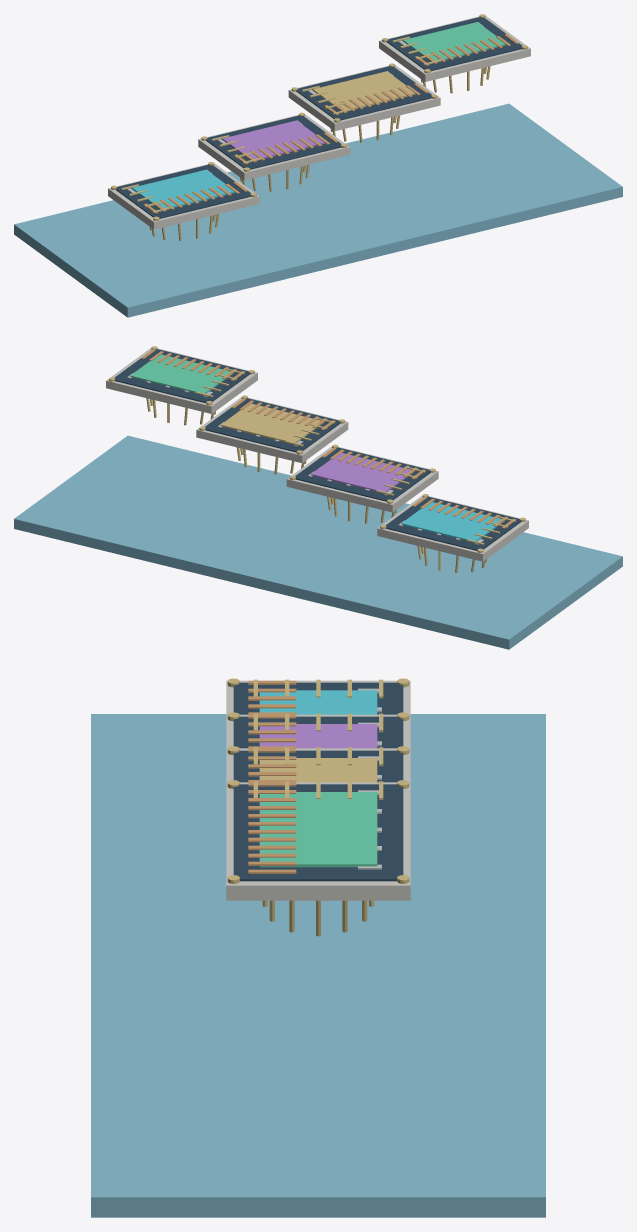
Rendered from 65_L79_Completed3DChipStackHologram.glb.
3 views of the same model, one above another, from view 1: azimuth 30°, elevation 25°; view 2: azimuth 150°, elevation 25°; view 3: azimuth 270°, elevation 25° (orthographic). The views are drawn at different scales.
Visible parts, largest first — view 1: Completed3DChipStackHologram_Node_0686, Completed3DChipStackHologram_Node_0381, Completed3DChipStackHologram_Node_0002, Completed3DChipStackHologram_Node_0155, Completed3DChipStackHologram_Node_0534, Completed3DChipStackHologram_Node_0379, Completed3DChipStackHologram_Node_0532, Completed3DChipStackHologram_Node_0153, Completed3DChipStackHologram_Node_0000, Completed3DChipStackHologram_Node_0533, Completed3DChipStackHologram_Node_0001, Completed3DChipStackHologram_Node_0380 (+1 smaller); view 2: Completed3DChipStackHologram_Node_0686, Completed3DChipStackHologram_Node_0002, Completed3DChipStackHologram_Node_0381, Completed3DChipStackHologram_Node_0534, Completed3DChipStackHologram_Node_0155, Completed3DChipStackHologram_Node_0379, Completed3DChipStackHologram_Node_0532, Completed3DChipStackHologram_Node_0153, Completed3DChipStackHologram_Node_0000, Completed3DChipStackHologram_Node_0380, Completed3DChipStackHologram_Node_0533, Completed3DChipStackHologram_Node_0154 (+1 smaller); view 3: Completed3DChipStackHologram_Node_0686, Completed3DChipStackHologram_Node_0534, Completed3DChipStackHologram_Node_0533, Completed3DChipStackHologram_Node_0532, Completed3DChipStackHologram_Node_0002, Completed3DChipStackHologram_Node_0155, Completed3DChipStackHologram_Node_0381, Completed3DChipStackHologram_Node_0154, Completed3DChipStackHologram_Node_0001, Completed3DChipStackHologram_Node_0380, Completed3DChipStackHologram_Node_0379, Completed3DChipStackHologram_Node_0000 (+1 smaller).
Boxes of the visible parts, box(x1,y1,x2,y2) form: Completed3DChipStackHologram_Node_0686: box(14, 103, 622, 317); Completed3DChipStackHologram_Node_0381: box(313, 71, 415, 110); Completed3DChipStackHologram_Node_0002: box(132, 170, 234, 209); Completed3DChipStackHologram_Node_0155: box(222, 120, 325, 160); Completed3DChipStackHologram_Node_0534: box(403, 22, 506, 61); Completed3DChipStackHologram_Node_0379: box(288, 65, 440, 130); Completed3DChipStackHologram_Node_0532: box(379, 16, 530, 81); Completed3DChipStackHologram_Node_0153: box(198, 114, 350, 180); Completed3DChipStackHologram_Node_0000: box(108, 163, 259, 229); Completed3DChipStackHologram_Node_0533: box(386, 17, 522, 71); Completed3DChipStackHologram_Node_0001: box(115, 164, 250, 218); Completed3DChipStackHologram_Node_0380: box(296, 66, 431, 120); Completed3DChipStackHologram_Node_0686: box(14, 435, 622, 649); Completed3DChipStackHologram_Node_0002: box(401, 502, 504, 541); Completed3DChipStackHologram_Node_0381: box(220, 403, 323, 442); Completed3DChipStackHologram_Node_0534: box(130, 354, 233, 393); Completed3DChipStackHologram_Node_0155: box(311, 453, 413, 492); Completed3DChipStackHologram_Node_0379: box(196, 397, 348, 462); Completed3DChipStackHologram_Node_0532: box(106, 348, 257, 413); Completed3DChipStackHologram_Node_0153: box(286, 446, 438, 512); Completed3DChipStackHologram_Node_0000: box(377, 495, 528, 561); Completed3DChipStackHologram_Node_0380: box(205, 398, 340, 452); Completed3DChipStackHologram_Node_0533: box(114, 349, 250, 403); Completed3DChipStackHologram_Node_0154: box(295, 447, 430, 501); Completed3DChipStackHologram_Node_0686: box(91, 714, 545, 1217); Completed3DChipStackHologram_Node_0534: box(259, 792, 377, 867); Completed3DChipStackHologram_Node_0533: box(233, 784, 403, 881); Completed3DChipStackHologram_Node_0532: box(226, 782, 410, 900); Completed3DChipStackHologram_Node_0002: box(259, 690, 377, 714); Completed3DChipStackHologram_Node_0155: box(259, 724, 377, 748); Completed3DChipStackHologram_Node_0381: box(259, 758, 377, 782); Completed3DChipStackHologram_Node_0154: box(233, 716, 403, 748); Completed3DChipStackHologram_Node_0001: box(233, 682, 403, 714); Completed3DChipStackHologram_Node_0380: box(233, 750, 403, 782); Completed3DChipStackHologram_Node_0379: box(226, 748, 410, 782); Completed3DChipStackHologram_Node_0000: box(226, 680, 410, 714).
Size of the model in its own units: 5.15 by 1.4 by 2.05.
